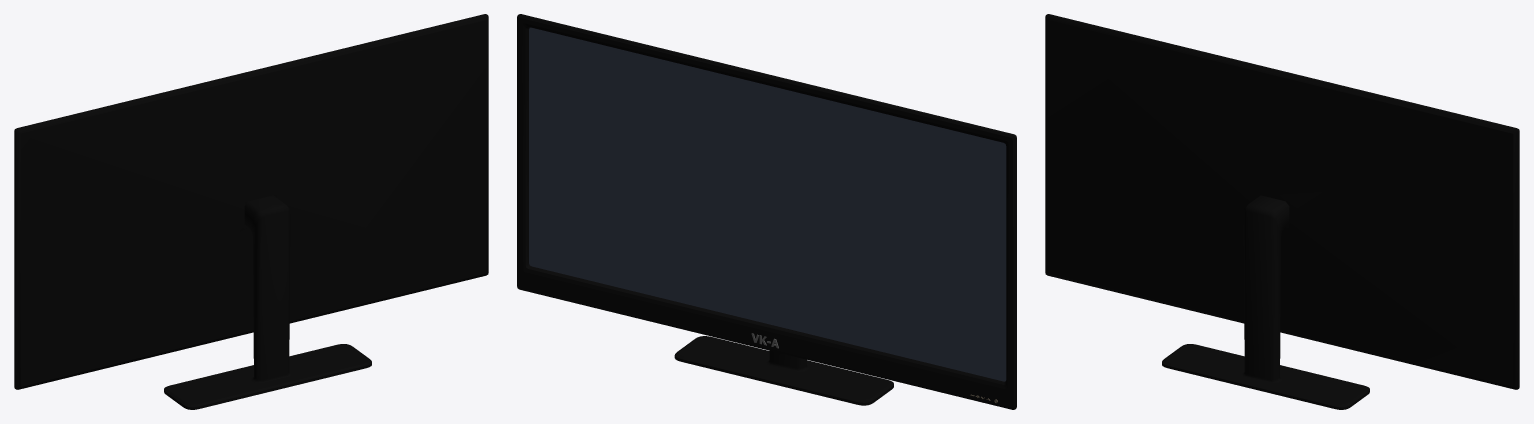
3 renders of one model, left to right at view 1: azimuth 30°, elevation 25°; view 2: azimuth 150°, elevation 25°; view 3: azimuth 330°, elevation 25°, orthographic. The views are drawn at different scales.
Parts seen in each view (by area): view 1: h-004_tv, h-004_tv_frame; view 2: h-004_tv, h-004_tv_frame; view 3: h-004_tv, h-004_tv_frame.
Part boxes in pixels (x1,y1,x2,y2): h-004_tv: (14, 14, 488, 389); h-004_tv_frame: (164, 195, 371, 409); h-004_tv: (517, 14, 1016, 409); h-004_tv_frame: (674, 336, 893, 405); h-004_tv: (1045, 14, 1519, 389); h-004_tv_frame: (1162, 195, 1369, 409).
Size of the model in its own units: 19 by 11.3 by 2.28.
